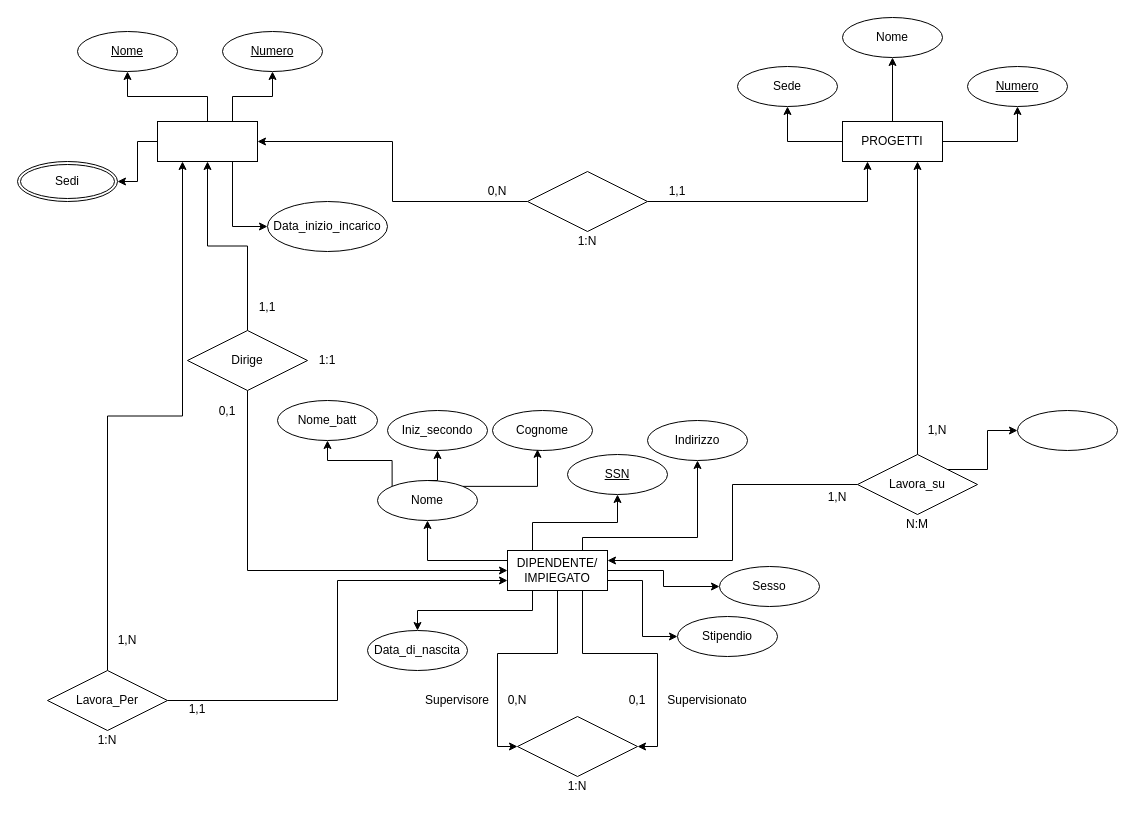
Some shapes in this 1135 by 814 pixel diagram are drawn without their labels. Here are the shapes that lost their labels. From the top down, the centre of each, then its label:
At point 207,141: "DIPARTIMENTO".
At point 587,201: "Controlla".
At point 1067,430: "Ore".
At point 577,746: "Supervisiona".
